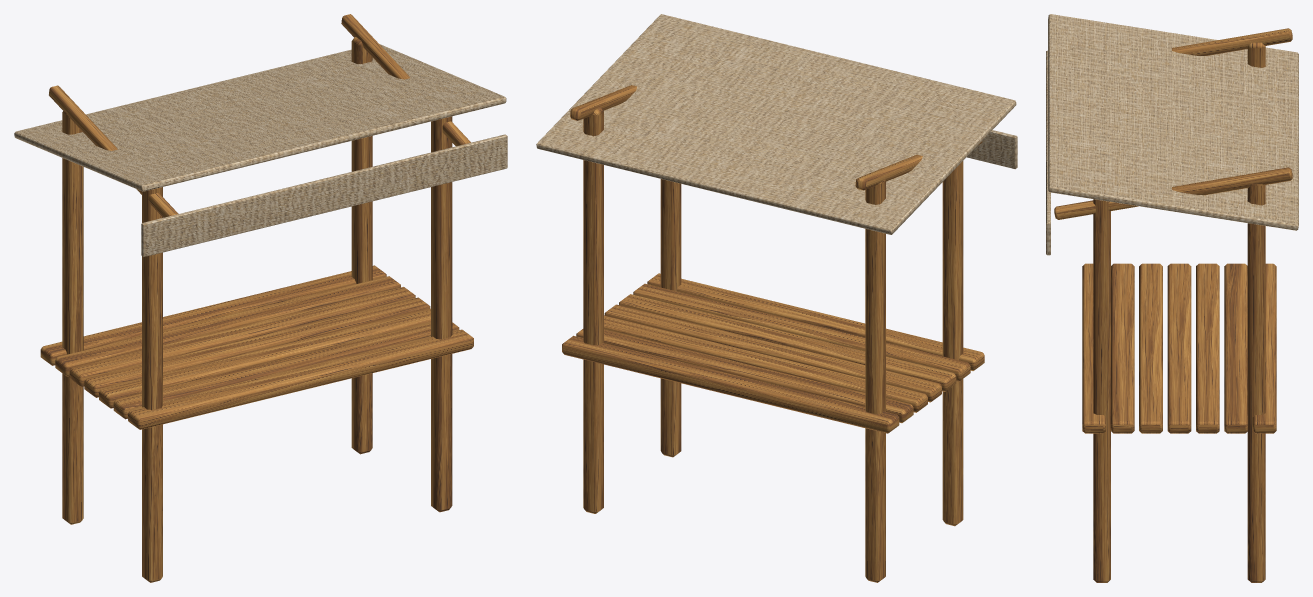
The model's file is 29_Puesto_Sencillo.obj.
The picture shows the model from 3 angles, left to right: view 1: azimuth 30°, elevation 25°; view 2: azimuth 150°, elevation 25°; view 3: azimuth 270°, elevation 25°; orthographic projection. The views are drawn at different scales.
Parts seen in each view (by area): view 1: 29_Puesto_Sencillo_Wood, 29_Puesto_Sencillo_Cloth; view 2: 29_Puesto_Sencillo_Wood, 29_Puesto_Sencillo_Cloth; view 3: 29_Puesto_Sencillo_Cloth, 29_Puesto_Sencillo_Wood.
Boxes of the visible parts, x1,y1,x2,y2 form: 29_Puesto_Sencillo_Wood: [40, 14, 473, 582]; 29_Puesto_Sencillo_Cloth: [14, 44, 507, 256]; 29_Puesto_Sencillo_Wood: [562, 85, 984, 582]; 29_Puesto_Sencillo_Cloth: [536, 14, 1017, 234]; 29_Puesto_Sencillo_Cloth: [1046, 14, 1298, 255]; 29_Puesto_Sencillo_Wood: [1054, 28, 1292, 582].
Bounding box in the file's own units: 2.07 × 2.3 × 1.27.
2 materials, 2 textured.
